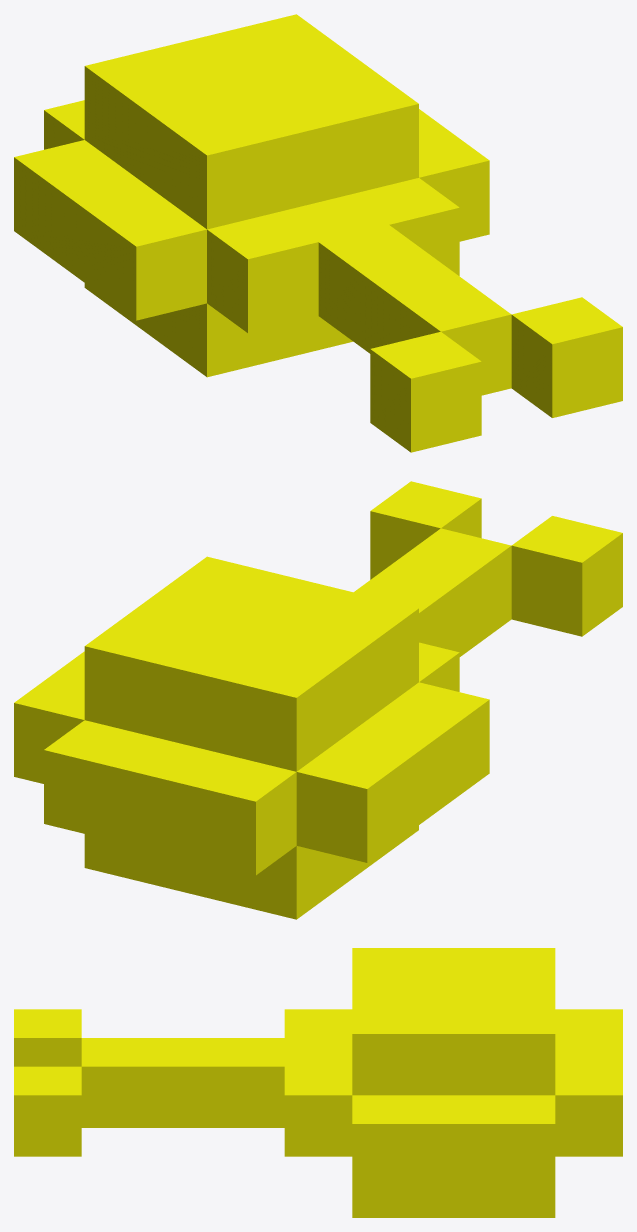
File: voxel-village-chicken-leg.glb
The picture shows the model from 3 angles, top to bottom: view 1: azimuth 30°, elevation 25°; view 2: azimuth 150°, elevation 25°; view 3: azimuth 270°, elevation 25°; orthographic projection. The views are drawn at different scales.
Visible parts, largest first — view 1: VS_Villagers_ChickenLeg; view 2: VS_Villagers_ChickenLeg; view 3: VS_Villagers_ChickenLeg.
Boxes of the visible parts, x1=… form: VS_Villagers_ChickenLeg: x1=14, y1=14, x2=622, y2=452; VS_Villagers_ChickenLeg: x1=14, y1=481, x2=622, y2=919; VS_Villagers_ChickenLeg: x1=14, y1=948, x2=622, y2=1217.
Size of the model in its own units: 0.5001 by 0.3 by 0.9.
